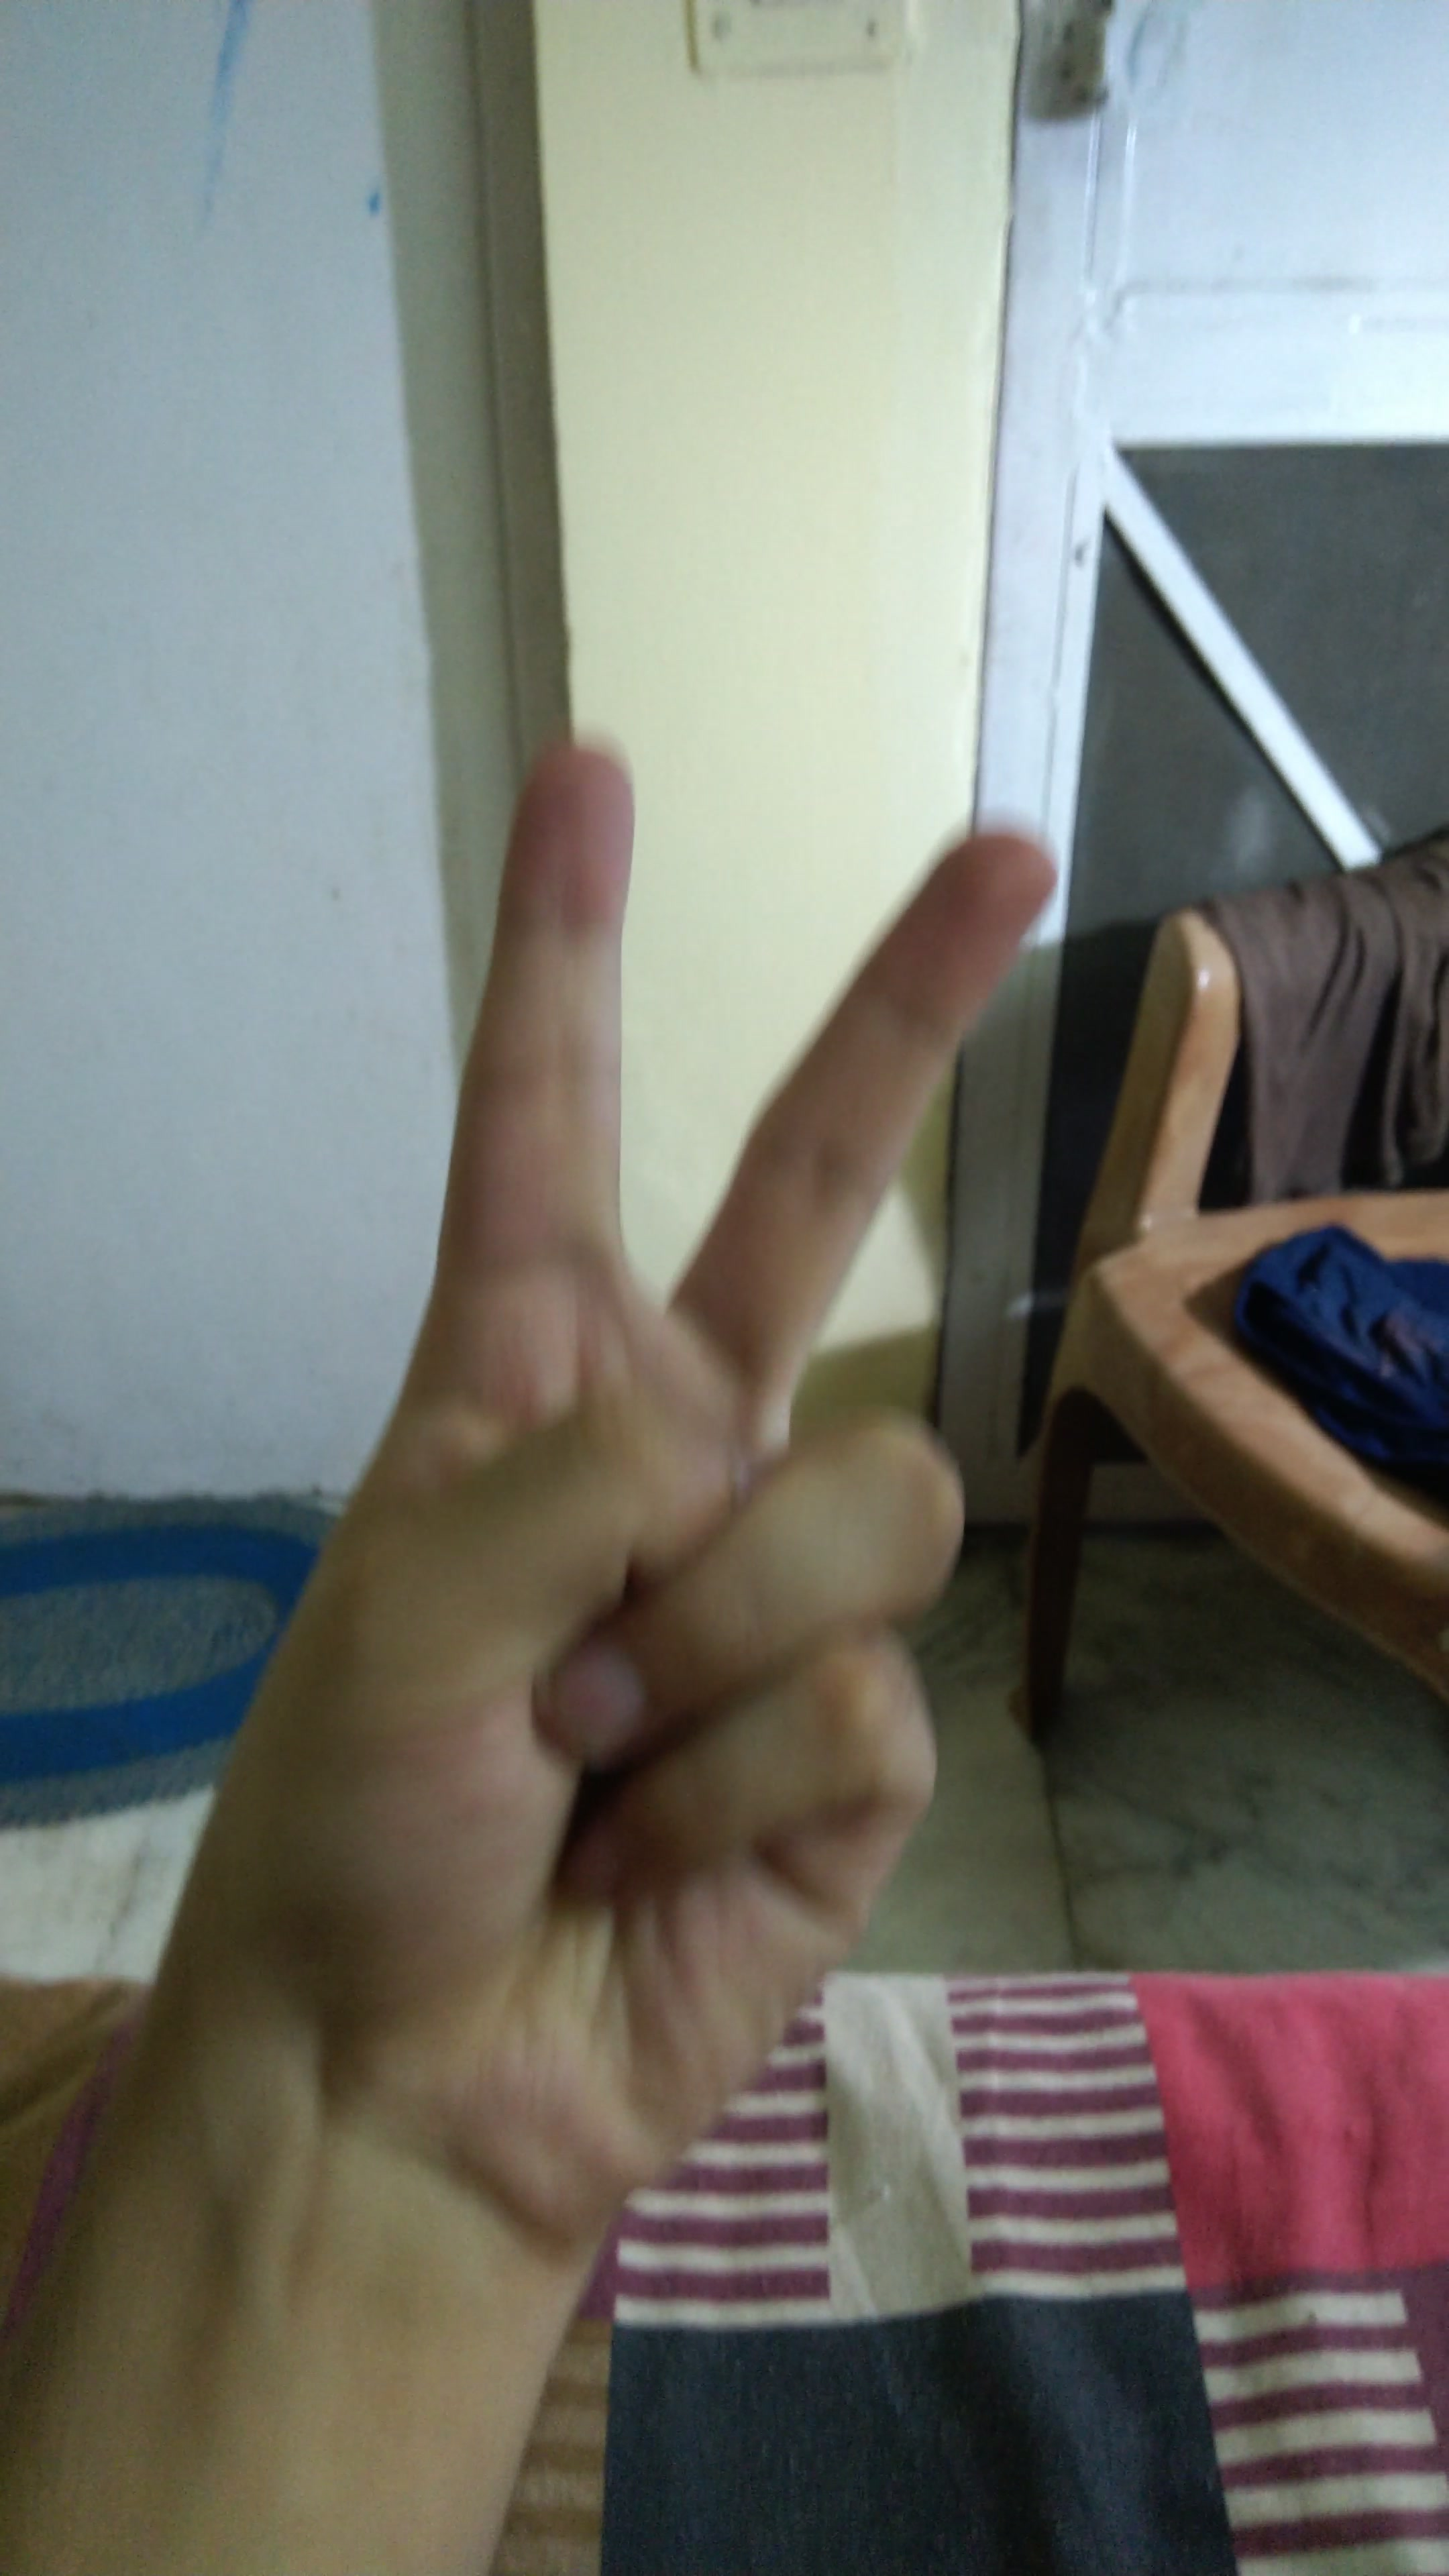hand: (150, 681, 1146, 2319)
